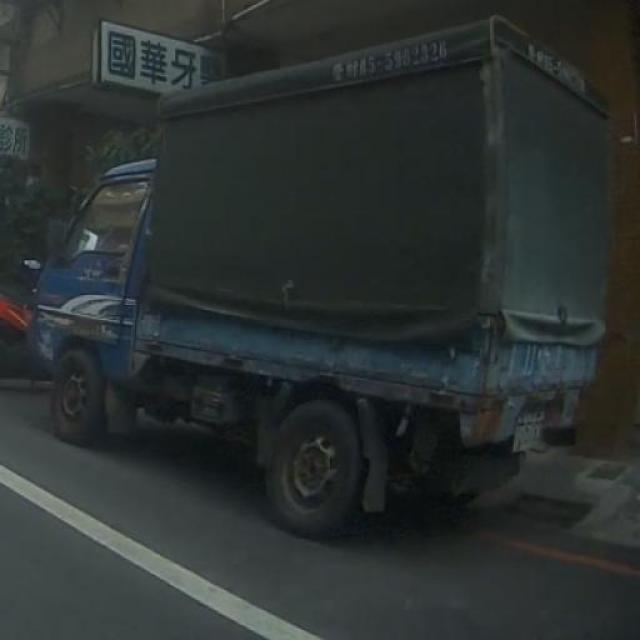illegalparking: (16, 9, 632, 561)
